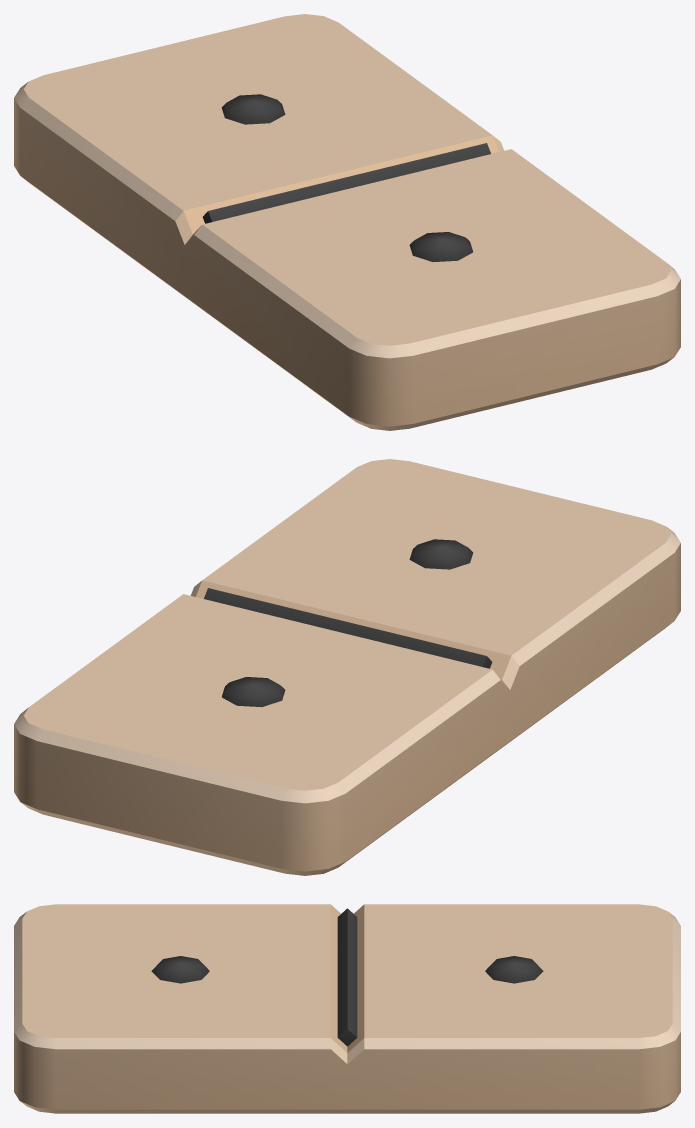
File: domino_tile_1-1.obj
3 renders of one model, top to bottom at view 1: azimuth 30°, elevation 25°; view 2: azimuth 150°, elevation 25°; view 3: azimuth 270°, elevation 25°, orthographic. The views are drawn at different scales.
Parts seen in each view (by area): view 1: domino_tile_1-1; view 2: domino_tile_1-1; view 3: domino_tile_1-1.
Part boxes in pixels (bbox=[...]): domino_tile_1-1: bbox=[14, 14, 680, 430]; domino_tile_1-1: bbox=[14, 459, 680, 875]; domino_tile_1-1: bbox=[14, 904, 680, 1113].
Bounding box in the file's own units: 1 × 0.2767 × 2.
1 material, 1 textured.
